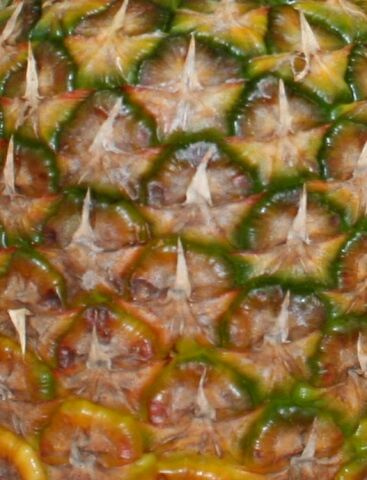pineapple: (0, 0, 365, 478)
